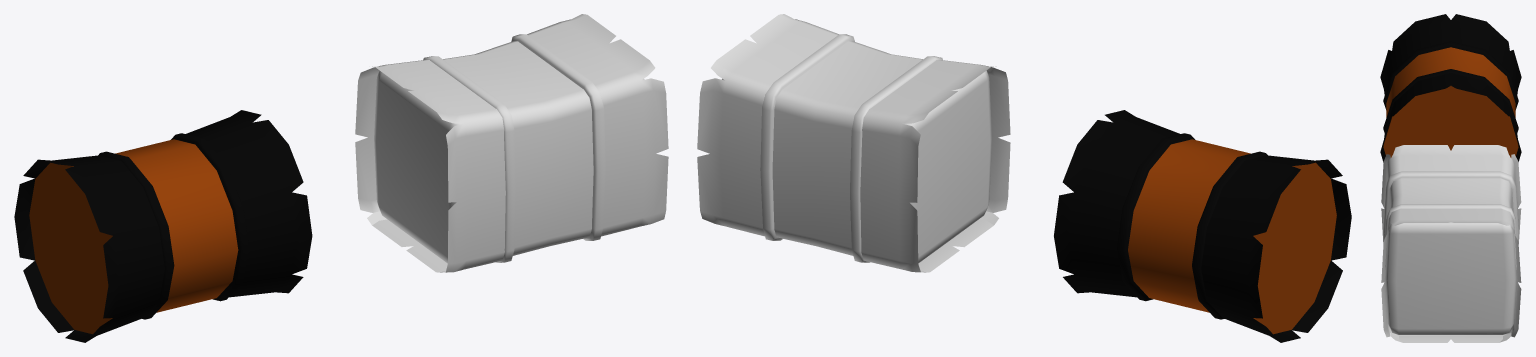
File: hay bale set.fbx
3 views of the same model, side by side, from view 1: azimuth 30°, elevation 25°; view 2: azimuth 150°, elevation 25°; view 3: azimuth 270°, elevation 25° (orthographic). The views are drawn at different scales.
Parts seen in each view (by area): view 1: haybale_rectangle, haybale_round; view 2: haybale_rectangle, haybale_round; view 3: haybale_rectangle, haybale_round.
Part boxes in pixels (x1,y1,x2,y2): haybale_rectangle: (355, 14, 668, 272); haybale_round: (14, 110, 312, 342); haybale_rectangle: (697, 14, 1010, 272); haybale_round: (1054, 110, 1351, 342); haybale_rectangle: (1381, 145, 1521, 342); haybale_round: (1380, 14, 1521, 162).
Bounding box in the file's own units: 290 × 84.14 × 84.37.
